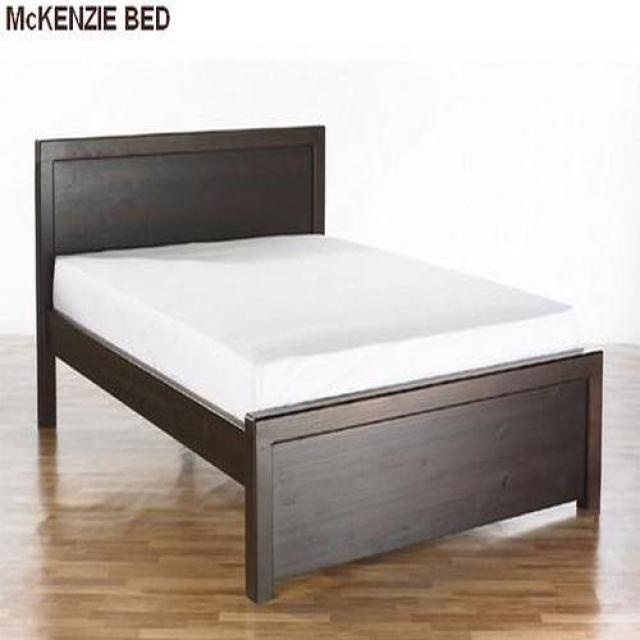bed: (35, 127, 605, 605)
